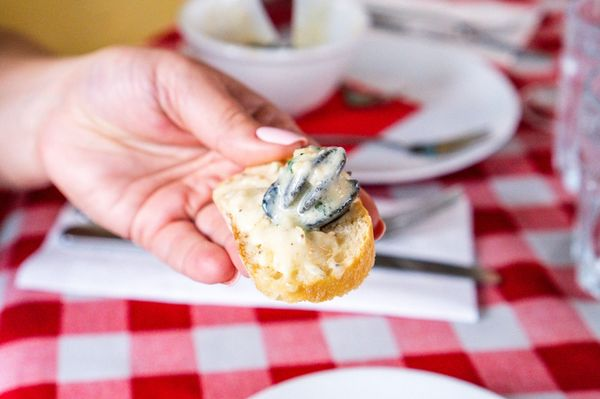soup: (210, 145, 383, 306)
